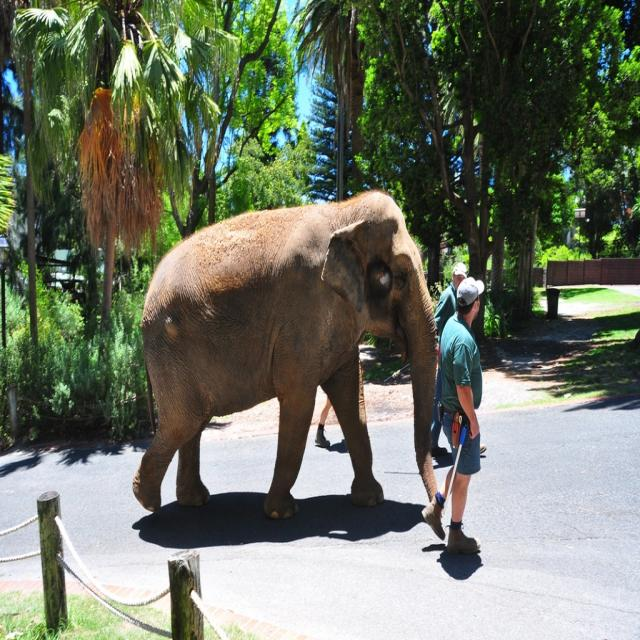elephant: (138, 195, 450, 531)
